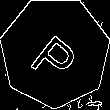P_NE: (25, 21, 85, 84)
